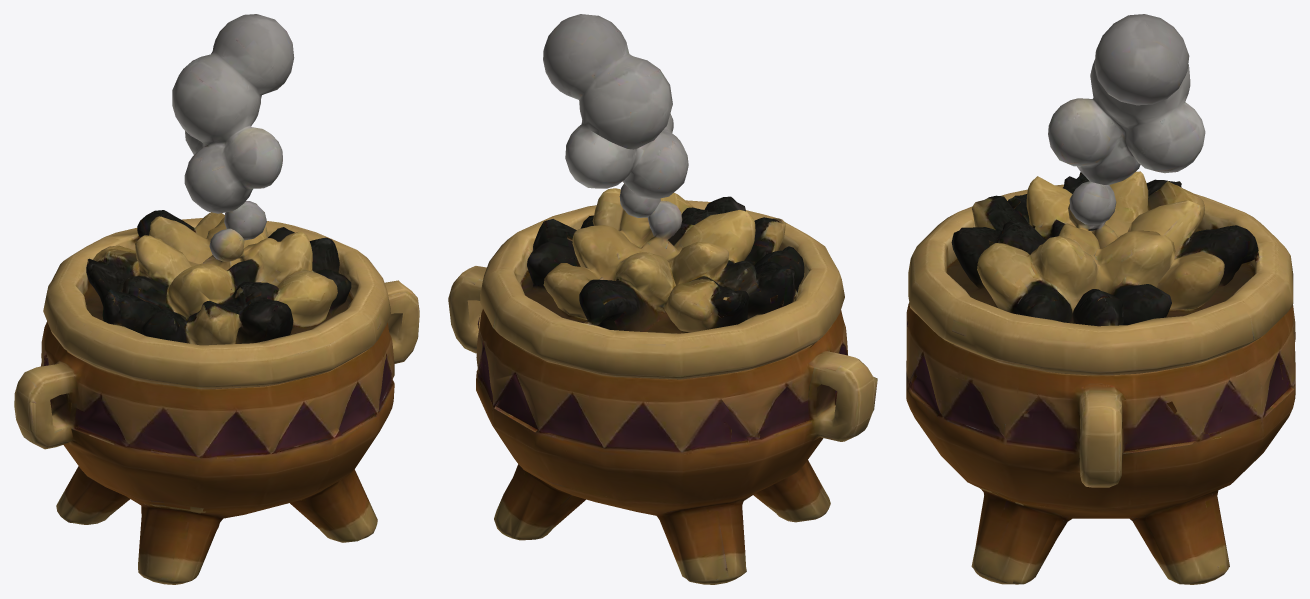
The model's file is copal-optimized.glb.
3 renders of one model, left to right at view 1: azimuth 30°, elevation 25°; view 2: azimuth 150°, elevation 25°; view 3: azimuth 270°, elevation 25°, orthographic. The views are drawn at different scales.
Visible parts, largest first — view 1: Mesh_0; view 2: Mesh_0; view 3: Mesh_0.
Part boxes in pixels (<box>): Mesh_0: <box>14,14,419,584</box>; Mesh_0: <box>448,14,877,584</box>; Mesh_0: <box>906,14,1295,584</box>.
Bounding box in the file's own units: 1.62 × 1.9 × 1.25.
Materials: 1 (1 with a texture image).
